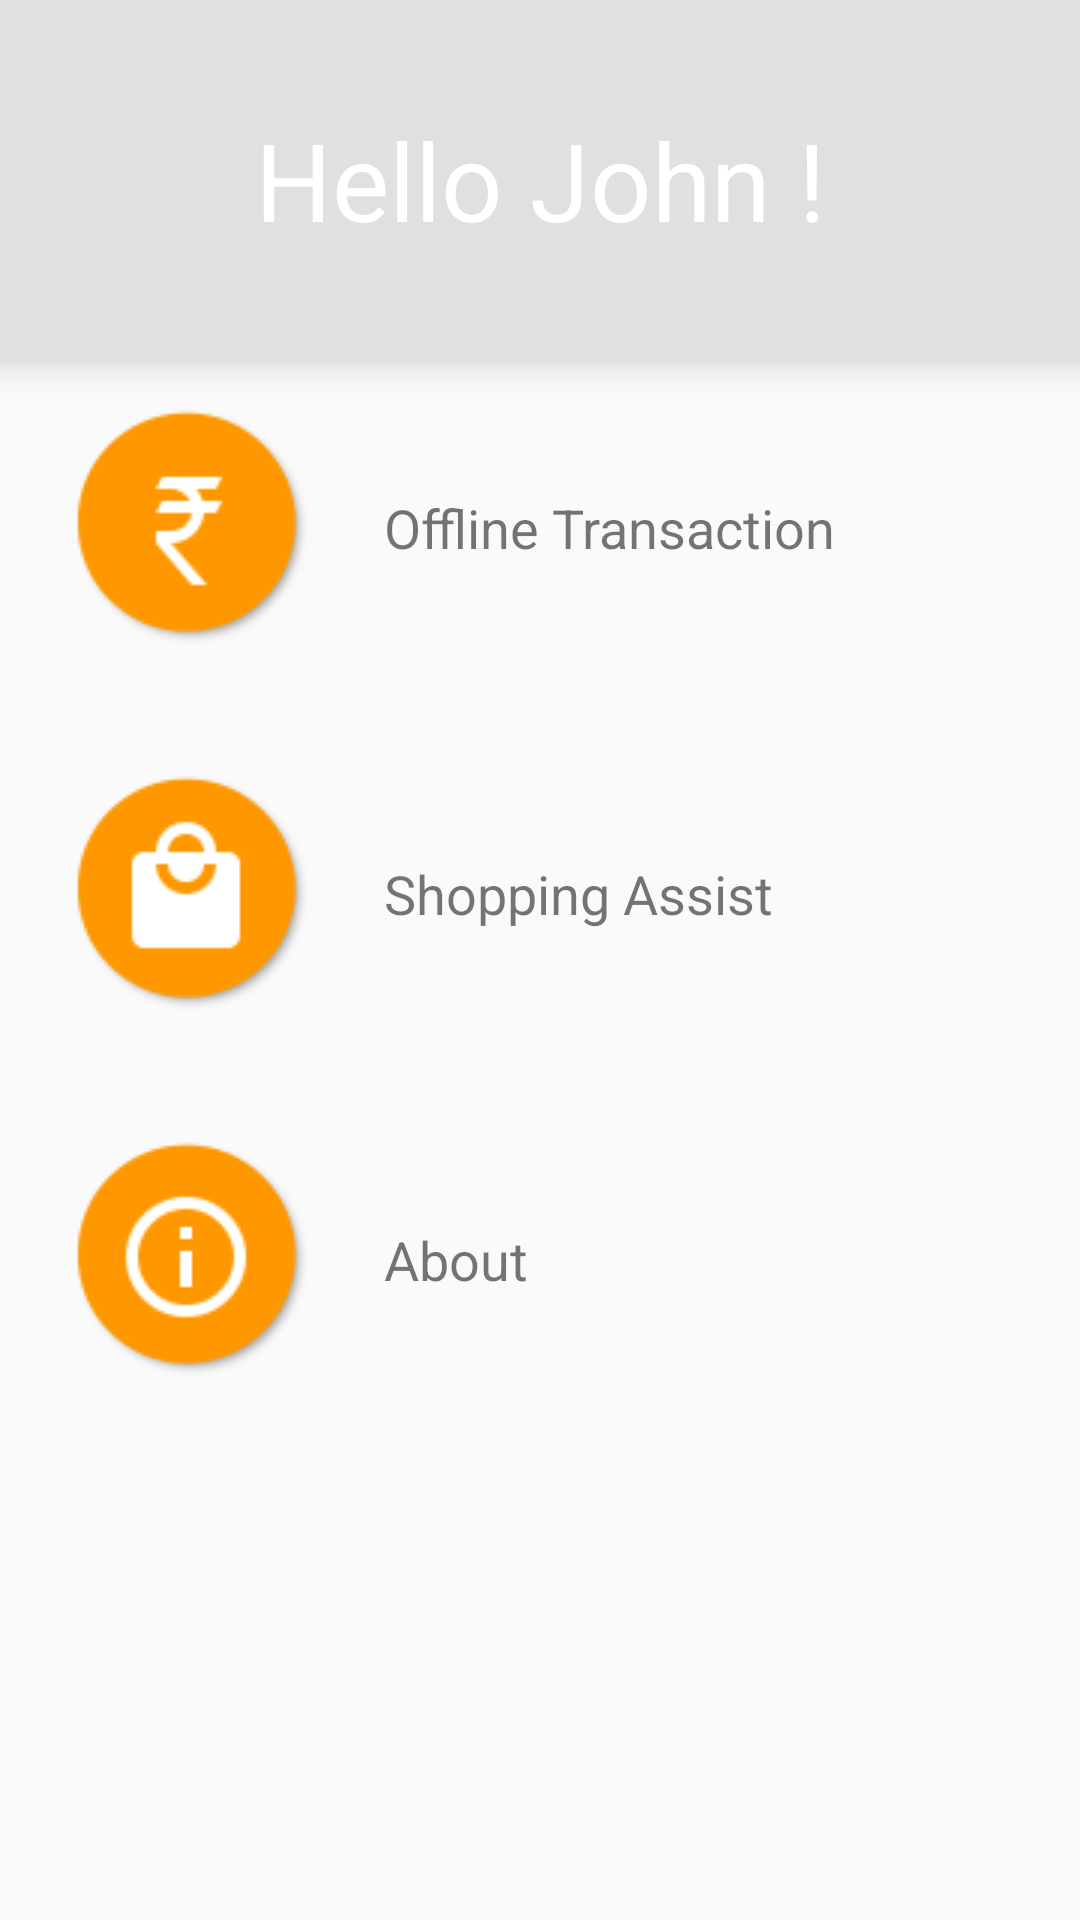

Icons on this 1080w x 1920h Android screen, each with the point to tap as (x=x, y=y):
transfer: (x=189, y=523)
